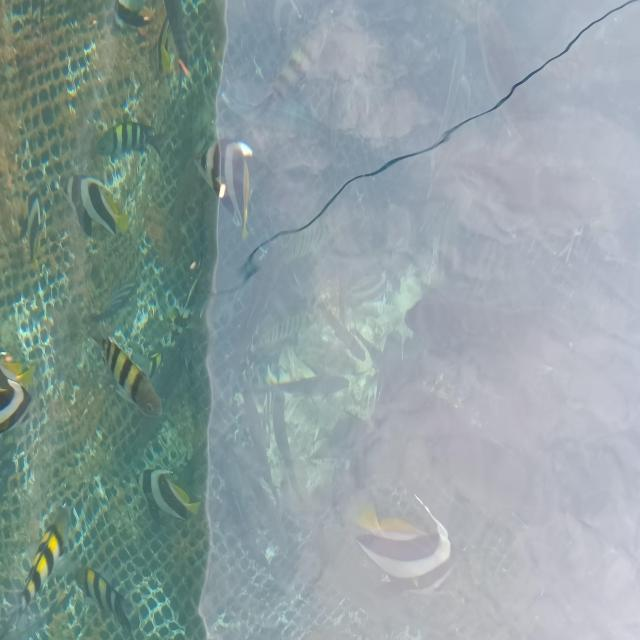ikan: (354, 492, 452, 590), (4, 522, 65, 631), (89, 330, 162, 418), (194, 137, 254, 240), (73, 565, 134, 638), (68, 173, 130, 239), (248, 310, 314, 368), (138, 466, 202, 524), (96, 120, 170, 164), (0, 349, 35, 433), (82, 279, 138, 325), (113, 0, 155, 31)
